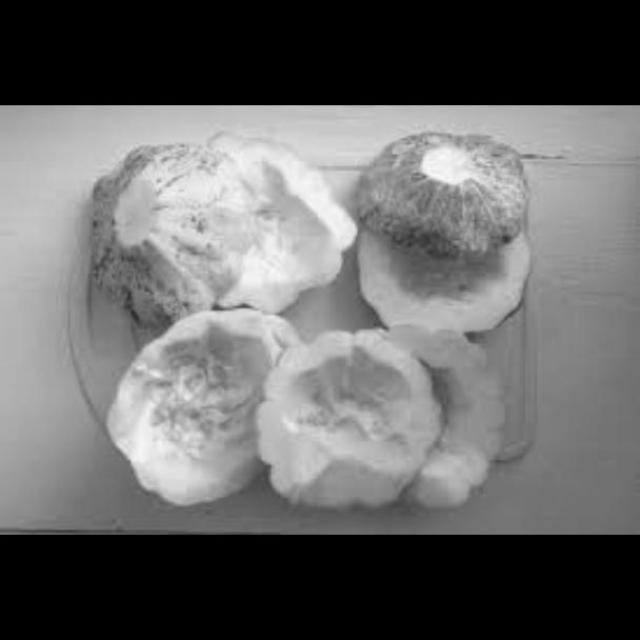squash: (91, 296, 284, 512), (175, 124, 356, 323), (80, 136, 248, 344), (254, 320, 432, 516), (348, 208, 534, 337), (358, 126, 539, 253), (391, 314, 504, 510)
